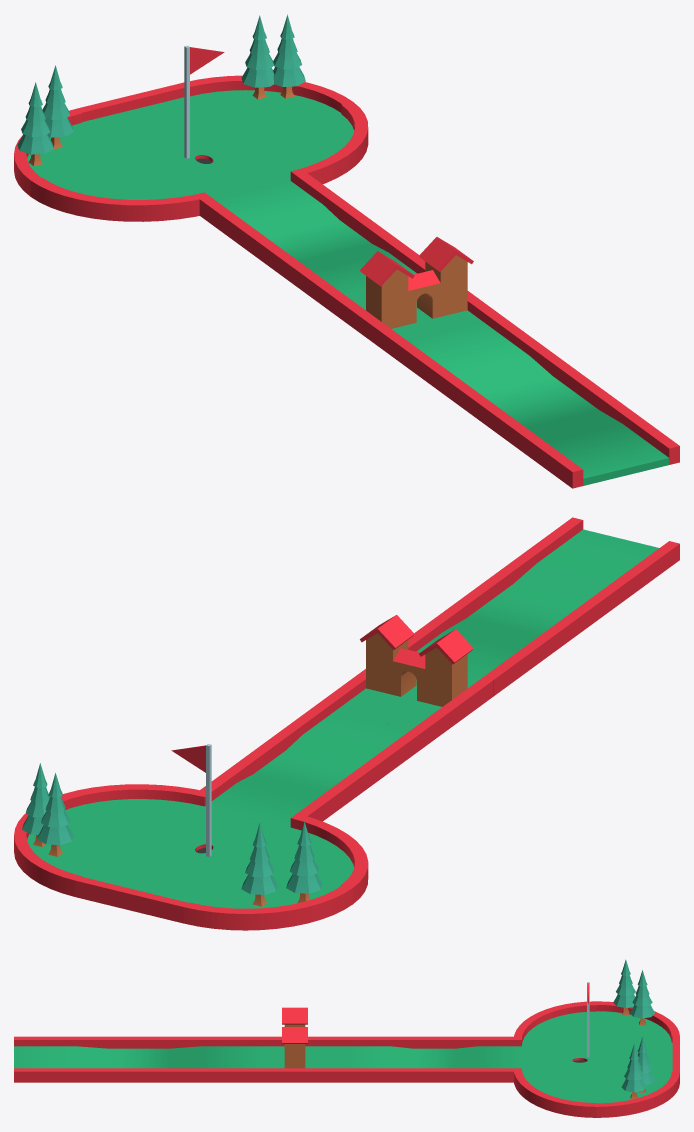
File: teren_golf.obj
The picture shows the model from 3 angles, top to bottom: view 1: azimuth 30°, elevation 25°; view 2: azimuth 150°, elevation 25°; view 3: azimuth 270°, elevation 25°; orthographic projection. The views are drawn at different scales.
Size of the model in its own units: 3 by 1.05 by 8.
